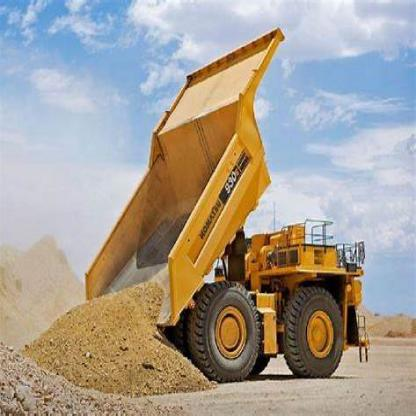dump_truck: (57, 16, 374, 380)
